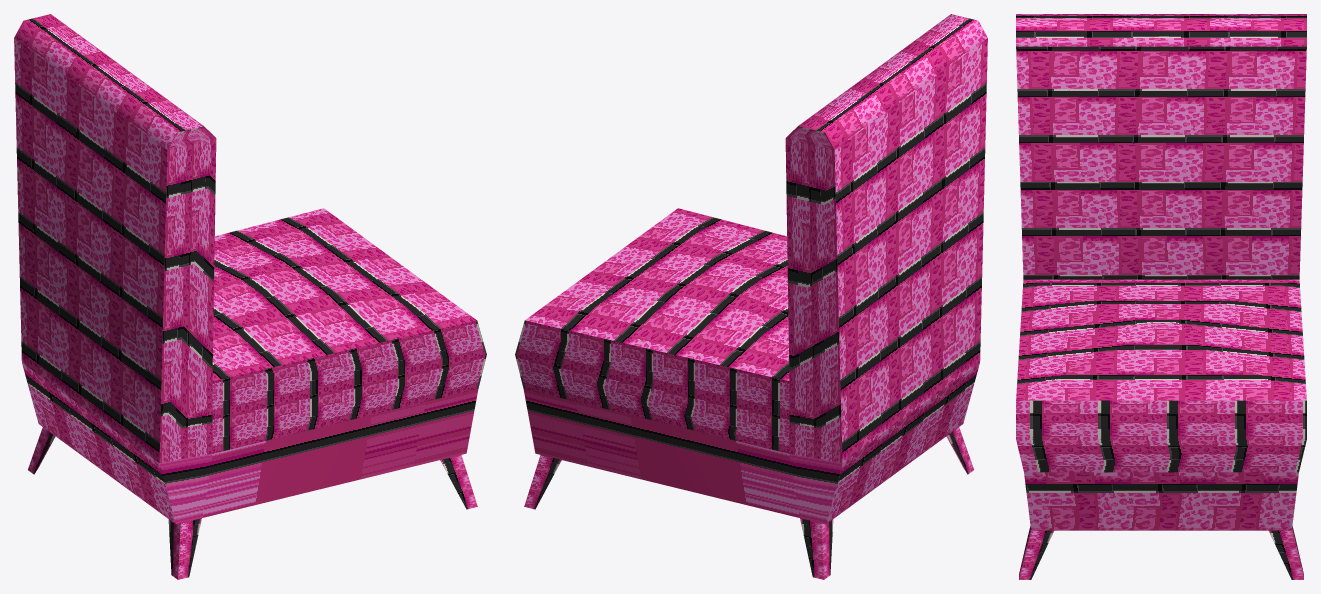
File: 3565kg_06_isu.gltf
3 renders of one model, left to right at view 1: azimuth 30°, elevation 25°; view 2: azimuth 150°, elevation 25°; view 3: azimuth 270°, elevation 25°, orthographic. The views are drawn at different scales.
Parts seen in each view (by area): view 1: 3565kg_06_isu; view 2: 3565kg_06_isu; view 3: 3565kg_06_isu.
Boxes of the visible parts, x1,y1,x2,y2 form: 3565kg_06_isu: (14, 14, 486, 579); 3565kg_06_isu: (515, 14, 987, 579); 3565kg_06_isu: (1016, 14, 1306, 579).
Bounding box in the file's own units: 0.7825 × 1.05 × 0.6499.
1 material, 1 textured.
